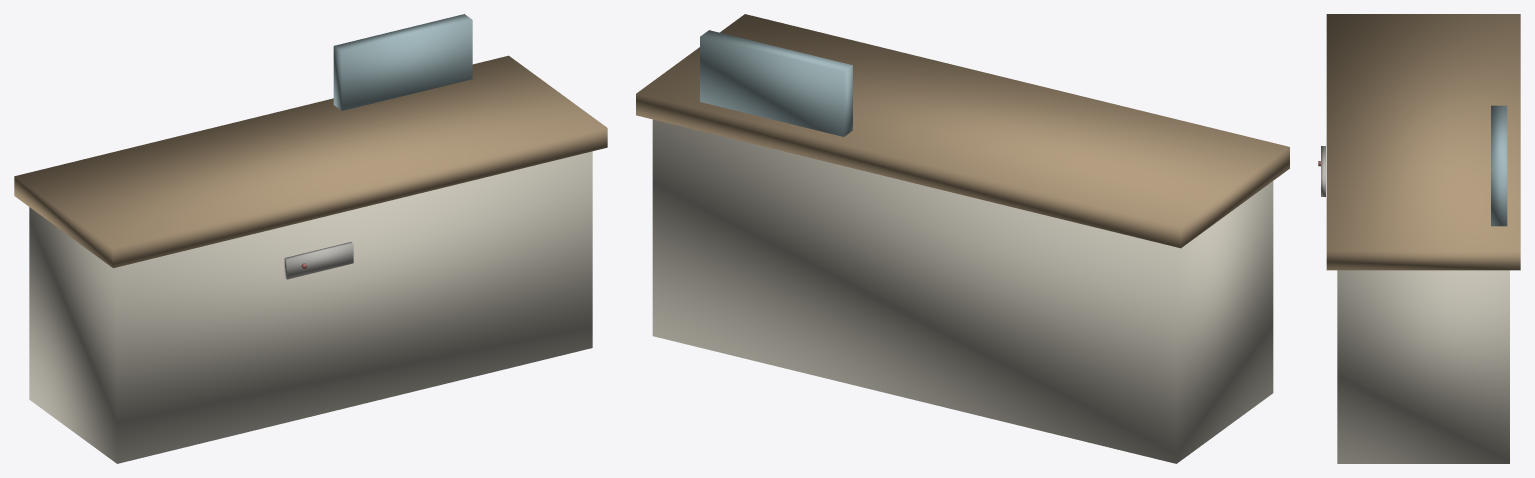
Rendered from post_office_counter__reinforced.glb.
3 views of the same model, side by side, from view 1: azimuth 30°, elevation 25°; view 2: azimuth 150°, elevation 25°; view 3: azimuth 270°, elevation 25° (orthographic). The views are drawn at different scales.
Parts seen in each view (by area): view 1: world; view 2: world; view 3: world.
Part boxes in pixels (bbox=[...]): world: bbox=[14, 14, 607, 463]; world: bbox=[636, 14, 1289, 463]; world: bbox=[1318, 14, 1520, 463].
Bounding box in the file's own units: 2.14 × 1.16 × 0.7735.
